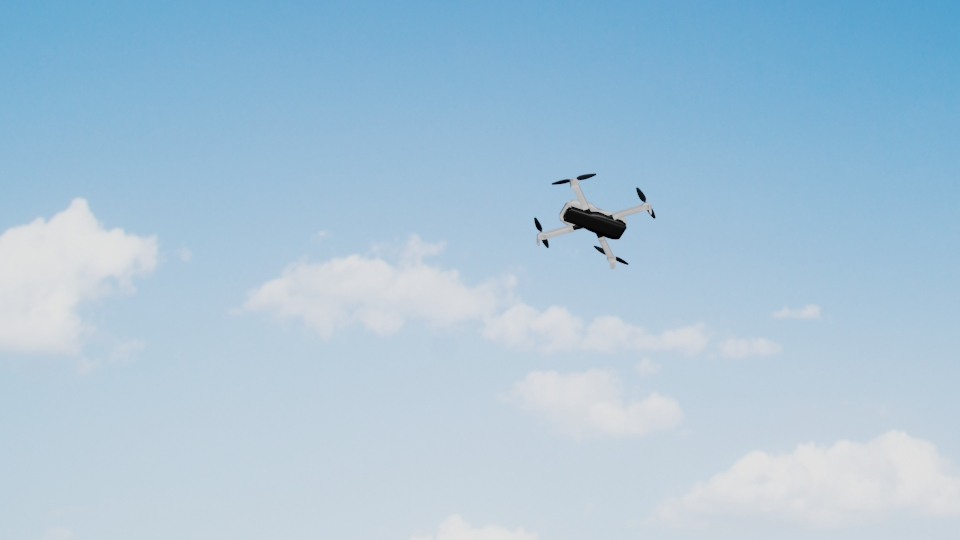drone: (531, 171, 658, 268)
